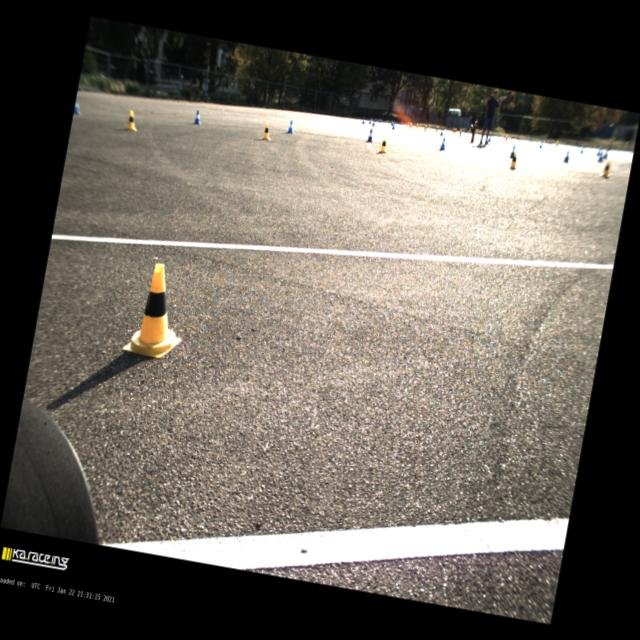blue_cone: (73, 98, 82, 115), (192, 109, 202, 124), (286, 118, 295, 134), (365, 128, 374, 142), (438, 136, 446, 150), (562, 150, 570, 163), (596, 150, 604, 162), (509, 144, 515, 158), (602, 148, 608, 158), (439, 126, 444, 136), (391, 122, 396, 130), (596, 146, 600, 156), (487, 134, 491, 142), (538, 140, 542, 148), (580, 145, 584, 153), (362, 117, 366, 124), (371, 118, 375, 125), (368, 118, 372, 124), (391, 120, 394, 126), (379, 118, 382, 122), (374, 117, 376, 122), (378, 118, 380, 122)
yellow_cone: (121, 260, 193, 362), (126, 109, 140, 130), (598, 159, 612, 178), (260, 122, 272, 140), (508, 153, 518, 169), (379, 138, 388, 152), (414, 122, 418, 130), (423, 124, 427, 132), (458, 128, 462, 136), (504, 134, 508, 142), (434, 125, 438, 132), (418, 122, 422, 128), (409, 123, 412, 130), (454, 127, 457, 133), (428, 124, 430, 129)
